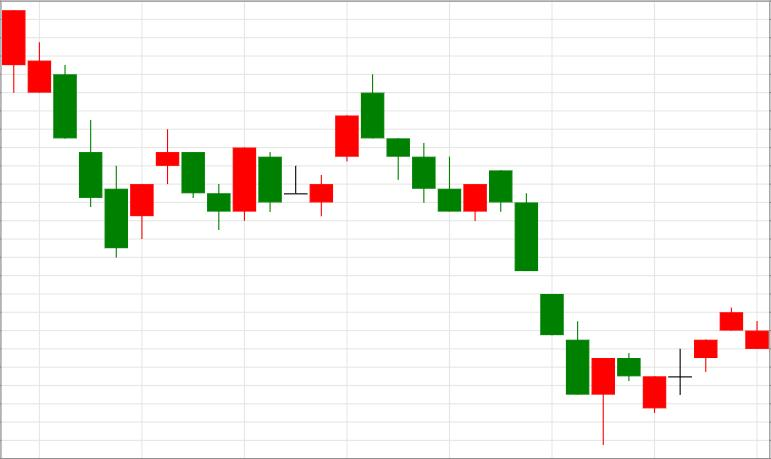hammer_rise: (489, 171, 616, 446)
